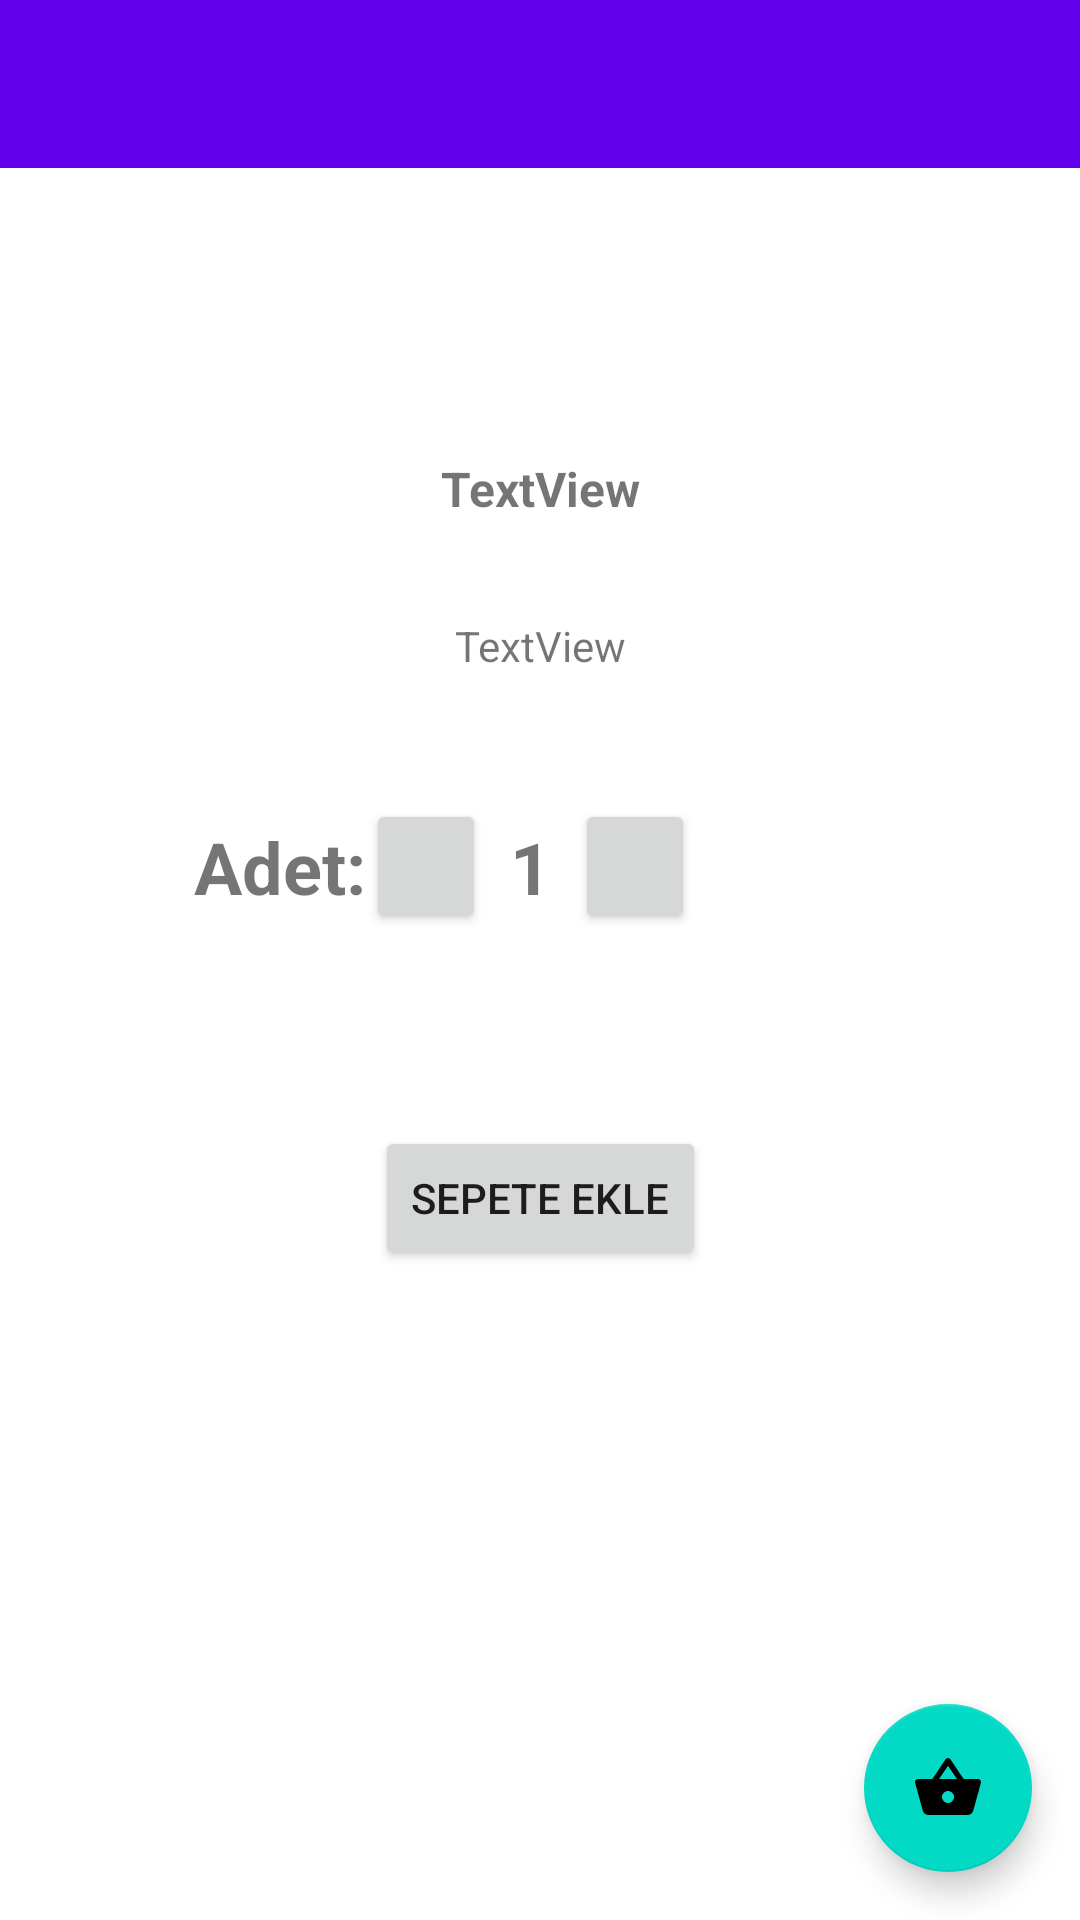

Named icons in this screenshot (1080px×1920px) and their bounding boxes, (x1, y1, x2, y2):
sepet: (864, 1704, 1032, 1872)
